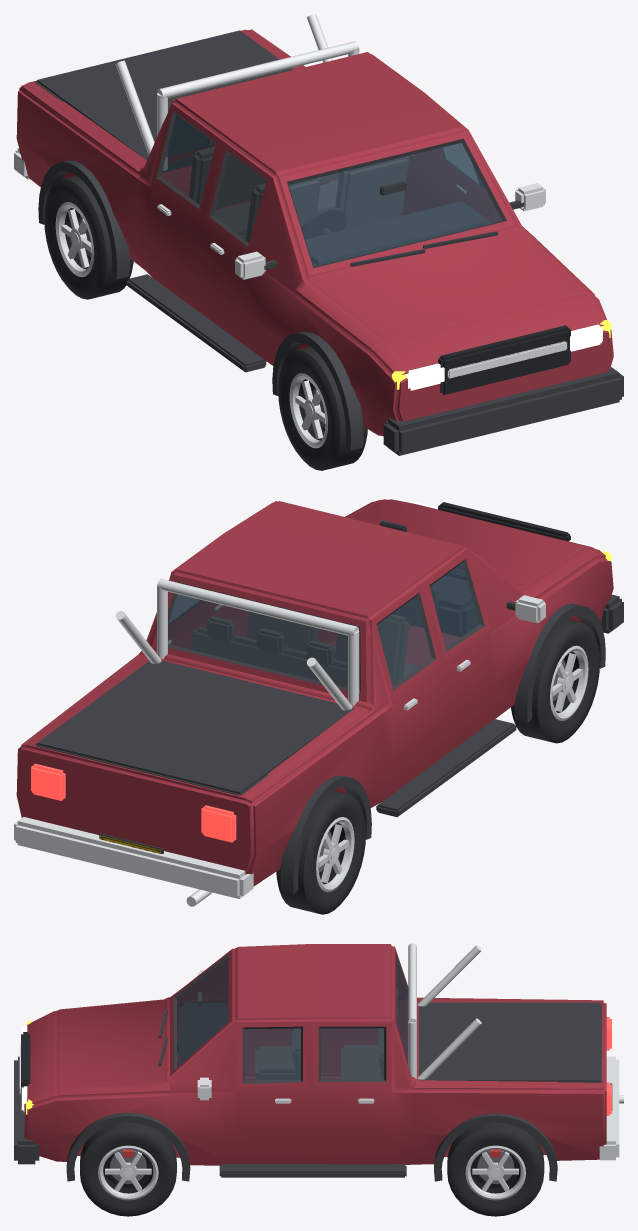
The model's file is Kenya_Hilux_DoubleCab_Pickup.glb.
3 views of the same model, one above another, from view 1: azimuth 30°, elevation 25°; view 2: azimuth 150°, elevation 25°; view 3: azimuth 270°, elevation 25° (orthographic). The views are drawn at different scales.
Visible parts, largest first — view 1: Pickup_Body, CargoBedLiner, FrontBumper.002, Wheel_FR.003, Wheel_RR.003, CabinDashCowl.003, PickupGrille, SeatBack_0_-0.001, PickupStep_1, FlareF_1.001, FlareR_1.001, BenchBack_1.003 (+10 smaller); view 2: Pickup_Body, CargoBedLiner, RearBumper.002, Wheel_RR.003, Wheel_FR.003, PickupStep_1, BenchBack_1.003, FlareR_1.001, FlareF_1.001, RollbarTop, CabinDashCowl.003, SeatBack_0_0.001 (+13 smaller); view 3: Pickup_Body, CargoBedLiner, Wheel_RL.003, Wheel_FL.003, PickupStep_-1, CabinDashCowl.003, FlareF_-1.001, FlareR_-1.001, RearBumper.002, BenchCush_1.003, SeatCush_0_0.001, FrontBumper.002 (+6 smaller).
Boxes of the visible parts, <box> form: Pickup_Body: <box>16,29,613,436</box>; CargoBedLiner: <box>35,30,293,172</box>; FrontBumper.002: <box>383,367,623,455</box>; Wheel_FR.003: <box>278,347,367,470</box>; Wheel_RR.003: <box>44,176,133,299</box>; CabinDashCowl.003: <box>306,201,490,266</box>; PickupGrille: <box>438,325,570,395</box>; SeatBack_0_-0.001: <box>335,156,408,229</box>; PickupStep_1: <box>126,274,266,372</box>; FlareF_1.001: <box>272,331,363,450</box>; FlareR_1.001: <box>38,160,129,279</box>; BenchBack_1.003: <box>189,147,339,208</box>; Pickup_Body: <box>16,499,613,886</box>; CargoBedLiner: <box>35,660,354,795</box>; RearBumper.002: <box>14,817,253,898</box>; Wheel_RR.003: <box>276,791,365,914</box>; Wheel_FR.003: <box>511,619,599,743</box>; PickupStep_1: <box>376,719,516,817</box>; BenchBack_1.003: <box>191,627,347,687</box>; FlareR_1.001: <box>280,775,371,894</box>; FlareF_1.001: <box>514,603,605,723</box>; RollbarTop: <box>157,578,358,635</box>; CabinDashCowl.003: <box>392,576,479,636</box>; SeatBack_0_0.001: <box>335,614,408,685</box>; Pickup_Body: <box>24,944,606,1165</box>; CargoBedLiner: <box>419,1002,601,1082</box>; Wheel_RL.003: <box>447,1122,544,1216</box>; Wheel_FL.003: <box>80,1122,176,1216</box>; PickupStep_-1: <box>219,1164,406,1177</box>; CabinDashCowl.003: <box>179,1003,228,1065</box>; FlareF_-1.001: <box>66,1112,190,1181</box>; FlareR_-1.001: <box>434,1113,557,1181</box>; RearBumper.002: <box>599,1056,619,1160</box>; BenchCush_1.003: <box>341,1045,381,1079</box>; SeatCush_0_0.001: <box>255,1046,297,1079</box>; FrontBumper.002: <box>14,1056,39,1164</box>.
Size of the model in its own units: 2.4 by 1.78 by 5.28.
17 materials, 1 textured.
